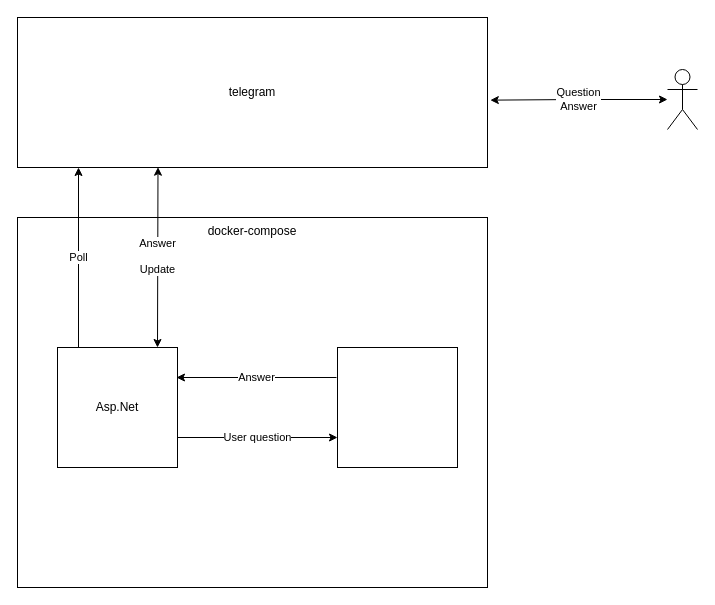
Image size: 715x605. Some labels were removed from this diagram. Here are the shapes that lost their labels. From the top down, the centre of each, then its label:
the point at 682,99: User
the point at 397,407: deeppavlov flask
